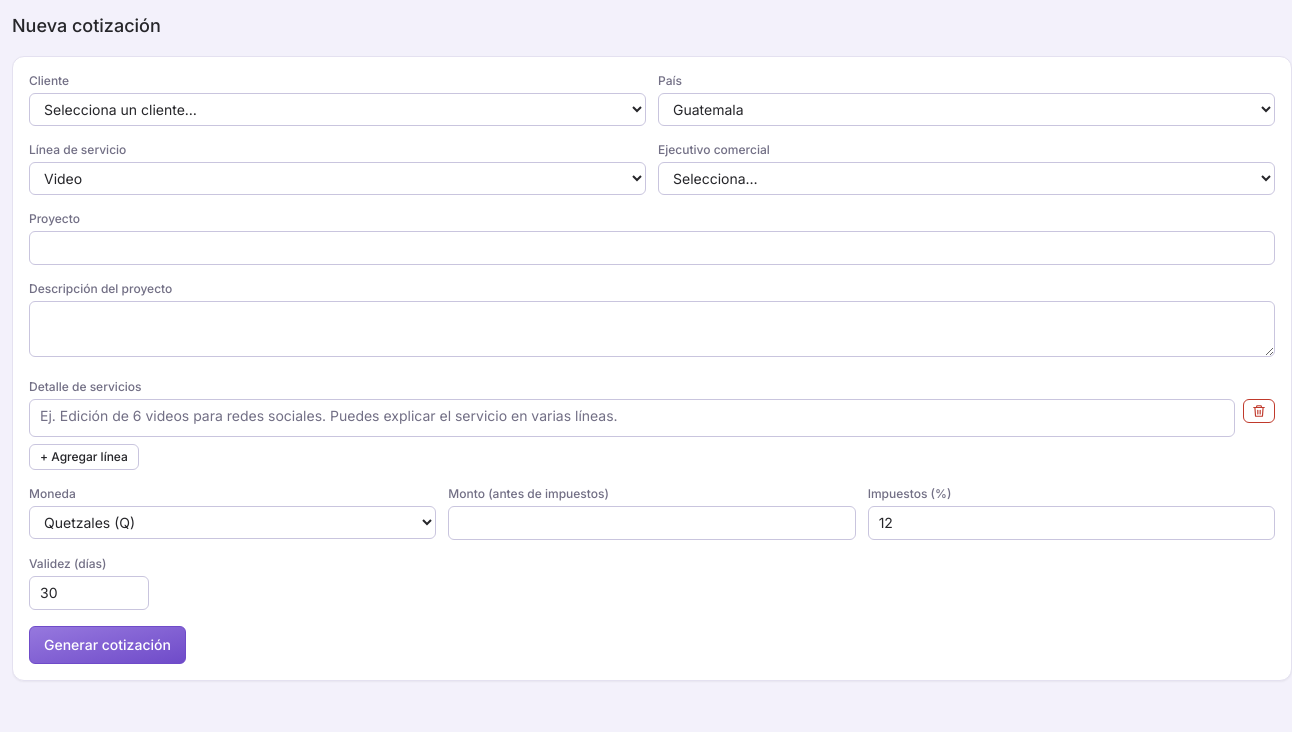
NuevaCotizacionPage › shows a validation error when submitting without a project name
Select "C807 Operador" in the dropdown labelled "Cliente" at (338, 110), box [29,93,646,126]
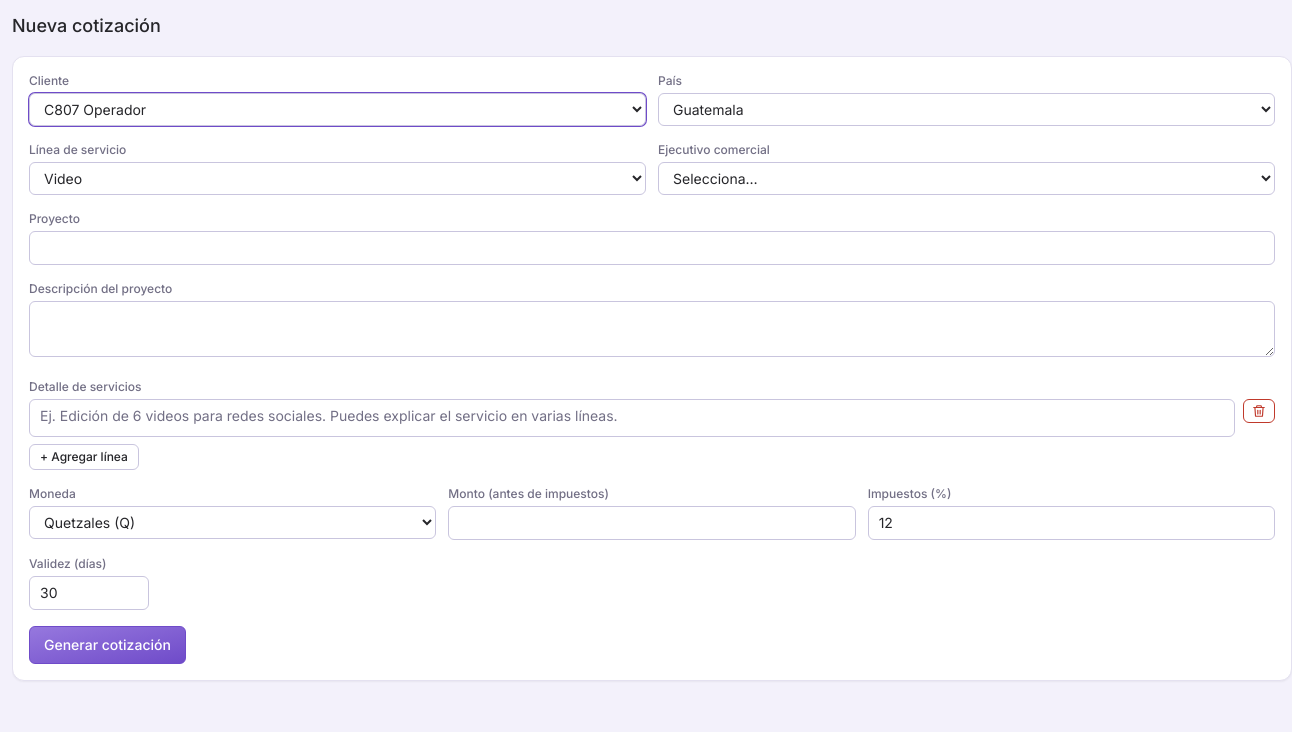
Select "Marco Ramírez" in the dropdown labelled "Ejecutivo comercial" at (966, 178), box [658,162,1275,195]
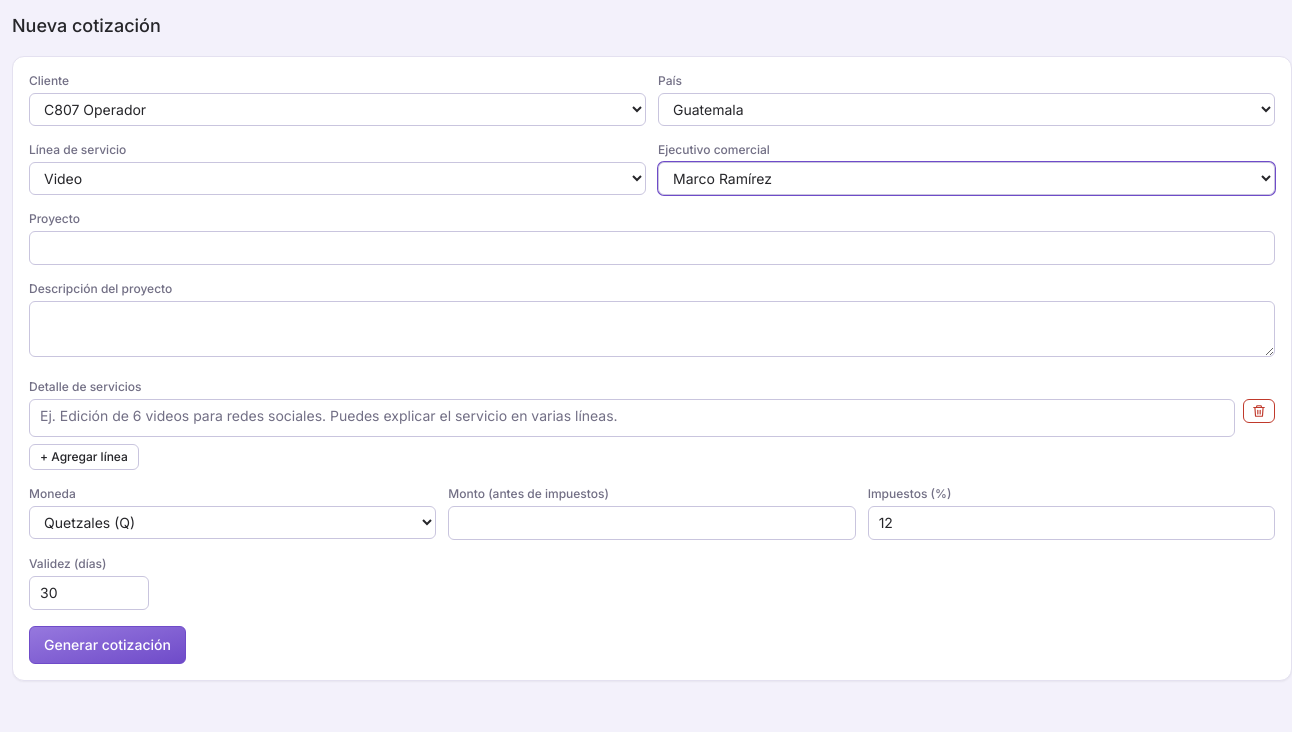
Click the button "Generar cotización" at (107, 645), box [29,626,186,664]
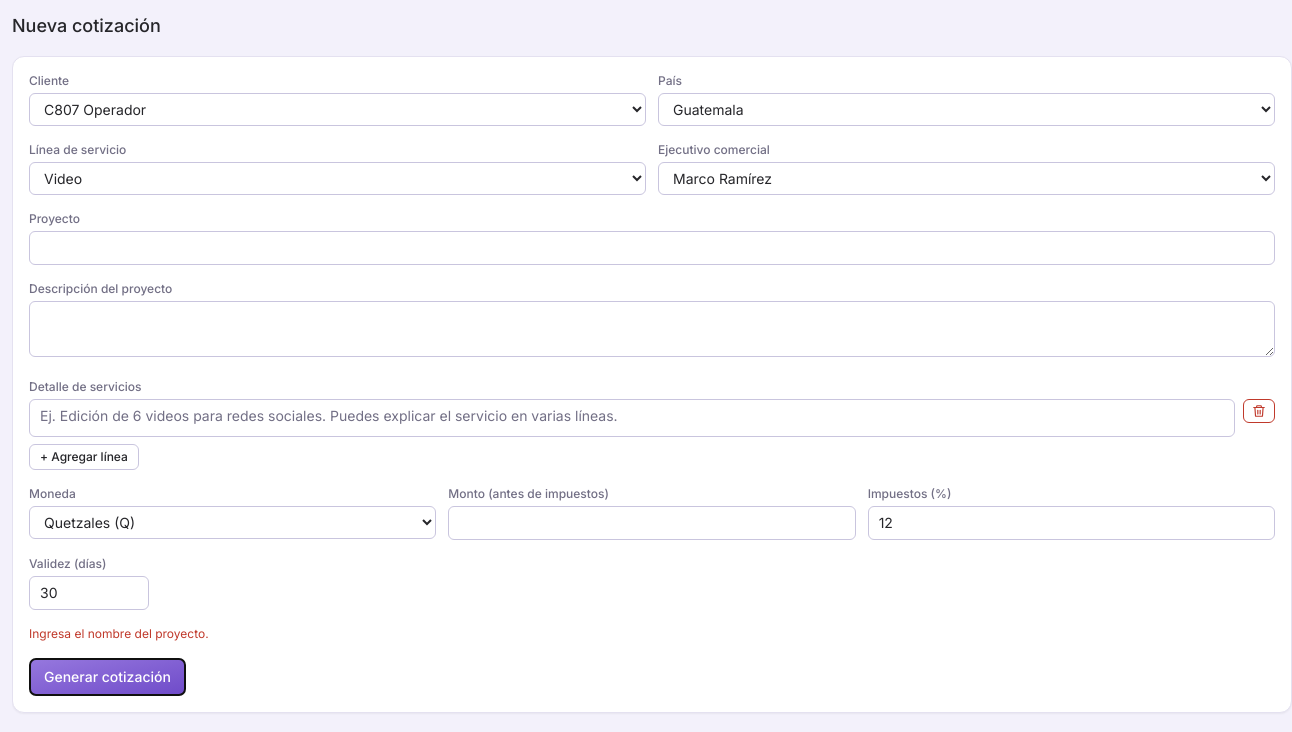
Expected: the text "Ingresa el nombre del proyecto." is shown, [29,626,209,641]
